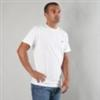abbigliamento_uomo: (21, 25, 71, 86)
